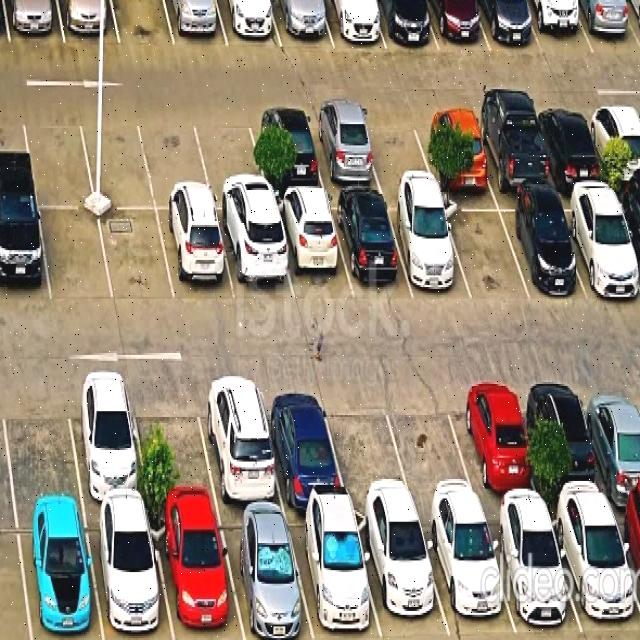empty: (382, 379, 481, 509), (321, 381, 415, 508), (129, 378, 218, 508), (0, 377, 82, 508), (441, 197, 529, 300), (192, 109, 270, 210), (78, 110, 156, 208), (139, 111, 214, 209), (21, 109, 95, 206), (99, 210, 175, 304), (39, 208, 113, 303), (358, 108, 435, 187), (112, 0, 175, 46)
occupied: (217, 511, 314, 640), (286, 510, 382, 640), (483, 509, 582, 635), (418, 509, 516, 636), (548, 505, 640, 640), (354, 510, 450, 639), (149, 510, 244, 640), (450, 378, 543, 508), (195, 376, 284, 508), (85, 509, 173, 640), (258, 379, 347, 507), (525, 376, 611, 507), (16, 509, 102, 640), (64, 376, 149, 507), (496, 197, 585, 299), (556, 190, 640, 296), (385, 196, 471, 299), (272, 195, 353, 303), (329, 195, 413, 298), (579, 377, 640, 504), (157, 211, 236, 302), (216, 212, 294, 302), (471, 108, 552, 190), (248, 109, 326, 192), (415, 109, 493, 188), (306, 109, 382, 190), (532, 105, 606, 184), (0, 203, 50, 303), (584, 104, 640, 182), (523, 0, 593, 56), (572, 0, 640, 54), (476, 0, 542, 53), (426, 0, 490, 52), (372, 0, 438, 50), (320, 0, 386, 49), (216, 0, 282, 47), (611, 504, 640, 607), (165, 0, 228, 47), (271, 0, 333, 47), (57, 0, 120, 44), (4, 0, 65, 43), (613, 189, 640, 275)
